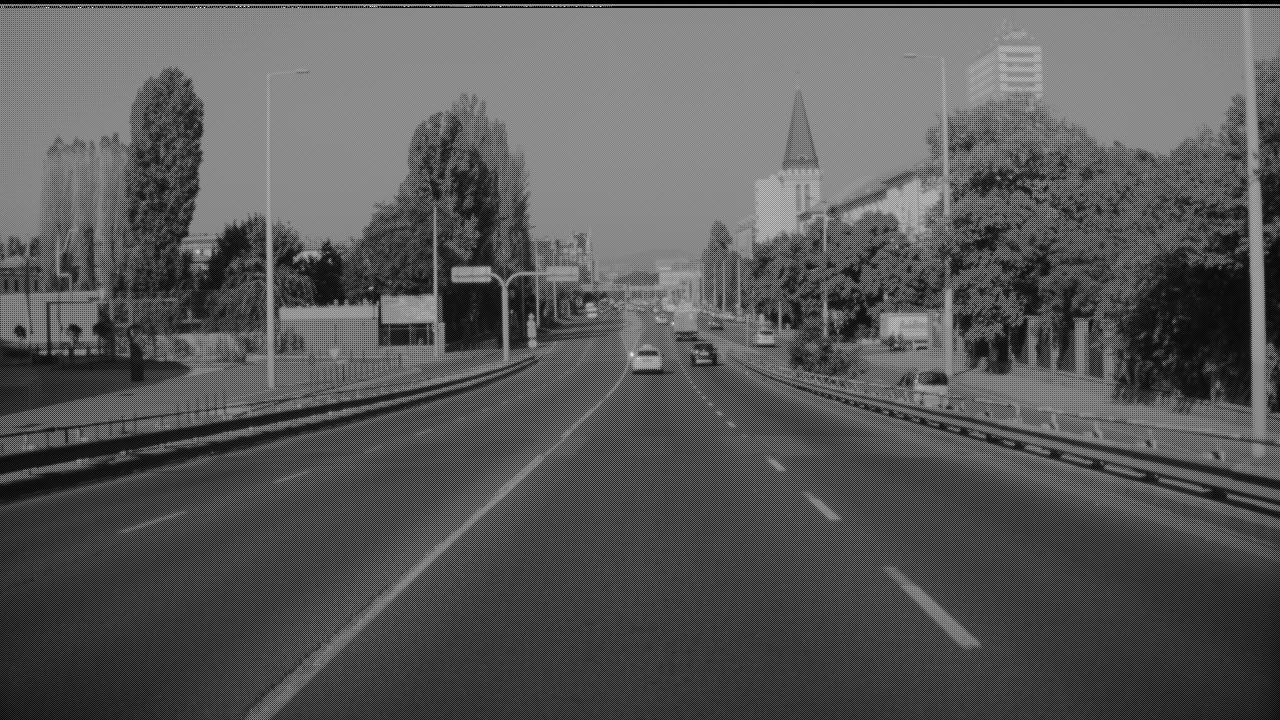pole: (1240, 1, 1267, 449), (939, 53, 954, 367), (264, 62, 275, 379), (432, 198, 439, 349), (821, 202, 828, 329), (501, 277, 510, 353)
